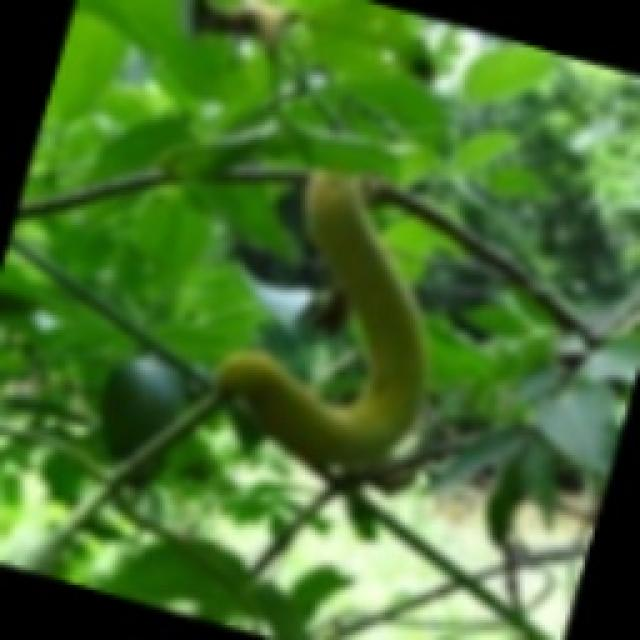Elderberry_rust: (160, 144, 466, 496)
